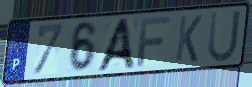6: (66, 20, 101, 74)
7: (33, 22, 65, 78)
A: (94, 16, 138, 73)
F: (135, 15, 172, 69)
K: (173, 13, 205, 64)
U: (206, 8, 243, 64)
